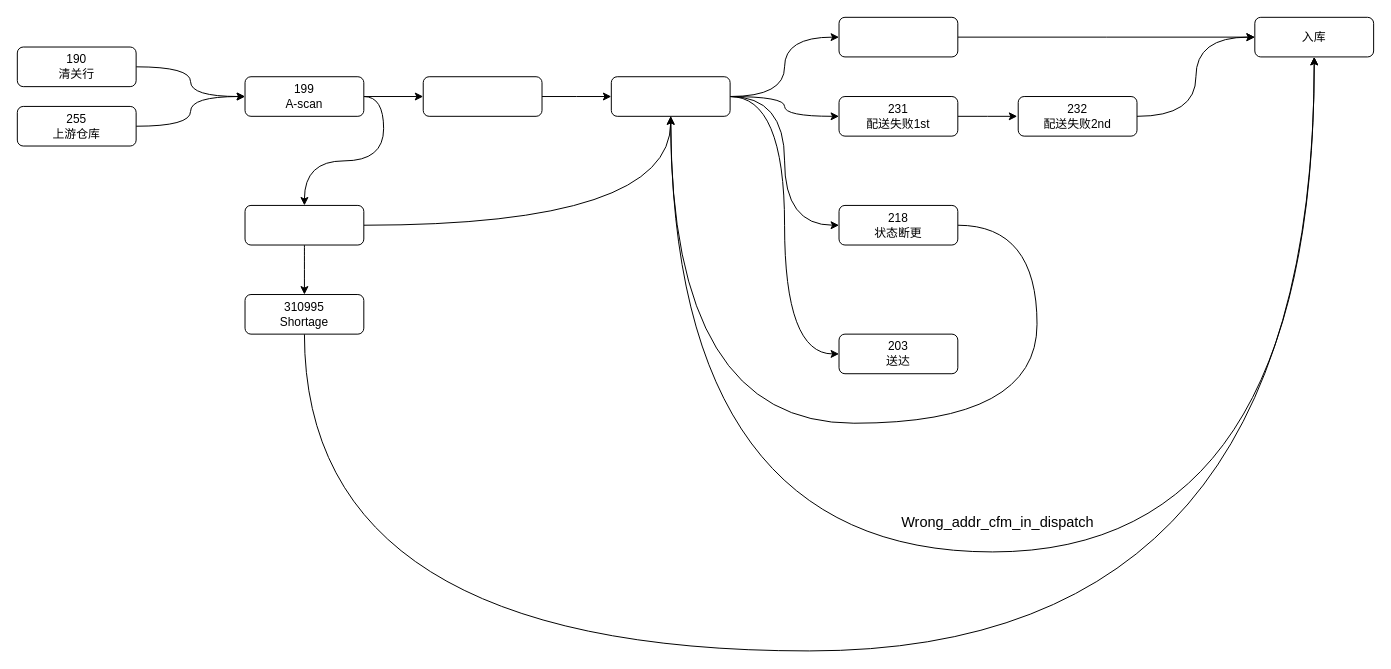
Some shapes in this 1391 by 669 pixel diagram are drawn without their labels. Each missing label, with the box of its shape:
200 司机已扫: (422, 76, 542, 116)
202 审核，司机发货: (610, 76, 730, 116)
211 不可配送: (838, 16, 958, 57)
排线，处理飞单: (244, 204, 364, 245)
